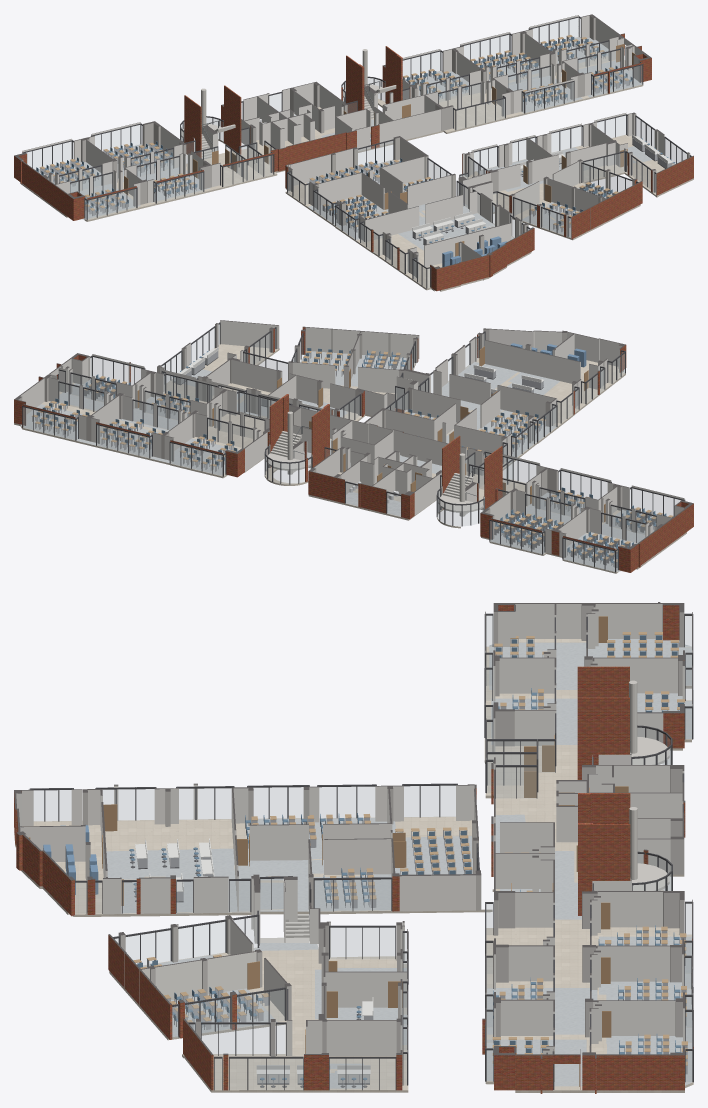
The model's file is floor-5.glb.
The picture shows the model from 3 angles, top to bottom: view 1: azimuth 30°, elevation 25°; view 2: azimuth 150°, elevation 25°; view 3: azimuth 270°, elevation 25°; orthographic projection. The views are drawn at different scales.
Visible parts, largest first — view 1: P5_B_Walls, P5_A_Walls, P5_A_Glass, P5_B_Glass, P5_A_Floor_Zones, P5_A_Floor_Slab, P5_A_Escaleras_Azotea, P5_A_Columns, P5_B_Floor_Slab, P5_A_Glass_Mullions, P5_B_Columns, P5_B_Floor_Zones (+15 smaller); view 2: P5_B_Walls, P5_A_Walls, P5_A_Glass, P5_A_Floor_Zones, P5_A_Escaleras_Azotea, P5_B_Glass, P5_A_Columns, P5_A_Glass_Mullions, P5_A_Floor_Slab, P5_B_Floor_Zones, P5_B_Floor_Slab, P5_B_Columns (+14 smaller); view 3: P5_A_Walls, P5_B_Walls, P5_B_Glass, P5_B_Floor_Slab, P5_A_Floor_Zones, P5_B_Floor_Zones, P5_A_Escaleras_Azotea, P5_A_Floor_Slab, P5_A_Columns, P5_B_Columns, P5_A_Glass, P5_B_Glass_Mullions (+15 smaller).
Part boxes in pixels (<box>): P5_B_Walls: <box>285,113,693,289</box>; P5_A_Walls: <box>20,15,644,215</box>; P5_A_Glass: <box>27,18,642,219</box>; P5_B_Glass: <box>288,116,686,287</box>; P5_A_Floor_Zones: <box>23,37,642,219</box>; P5_A_Floor_Slab: <box>21,37,643,221</box>; P5_A_Escaleras_Azotea: <box>181,46,402,159</box>; P5_A_Columns: <box>14,14,651,220</box>; P5_B_Floor_Slab: <box>285,134,693,291</box>; P5_A_Glass_Mullions: <box>22,18,643,220</box>; P5_B_Columns: <box>312,112,690,291</box>; P5_B_Floor_Zones: <box>307,146,652,250</box>; P5_B_Walls: <box>160,320,623,472</box>; P5_A_Walls: <box>17,354,686,567</box>; P5_A_Glass: <box>23,357,680,571</box>; P5_A_Floor_Zones: <box>20,379,657,571</box>; P5_A_Escaleras_Azotea: <box>266,394,502,516</box>; P5_B_Glass: <box>162,324,624,464</box>; P5_A_Columns: <box>14,353,693,572</box>; P5_A_Glass_Mullions: <box>22,357,685,572</box>; P5_A_Floor_Slab: <box>14,382,686,573</box>; P5_B_Floor_Zones: <box>172,351,559,462</box>; P5_B_Floor_Slab: <box>163,344,625,470</box>; P5_B_Columns: <box>157,323,626,461</box>; P5_A_Walls: <box>482,602,693,1093</box>; P5_B_Walls: <box>14,783,478,1090</box>; P5_B_Glass: <box>34,786,455,1089</box>; P5_B_Floor_Slab: <box>14,816,492,1092</box>; P5_A_Floor_Zones: <box>486,639,693,1086</box>; P5_B_Floor_Zones: <box>106,818,472,1088</box>; P5_A_Escaleras_Azotea: <box>577,666,669,915</box>; P5_A_Floor_Slab: <box>484,639,693,1092</box>; P5_A_Columns: <box>493,603,684,1090</box>; P5_B_Columns: <box>14,785,481,1090</box>; P5_A_Glass: <box>486,616,692,1081</box>; P5_B_Glass_Mullions: <box>29,783,479,1090</box>.
Bounding box in the file's own units: 77.81 × 10.33 × 48.96.
20 materials, 4 textured.
